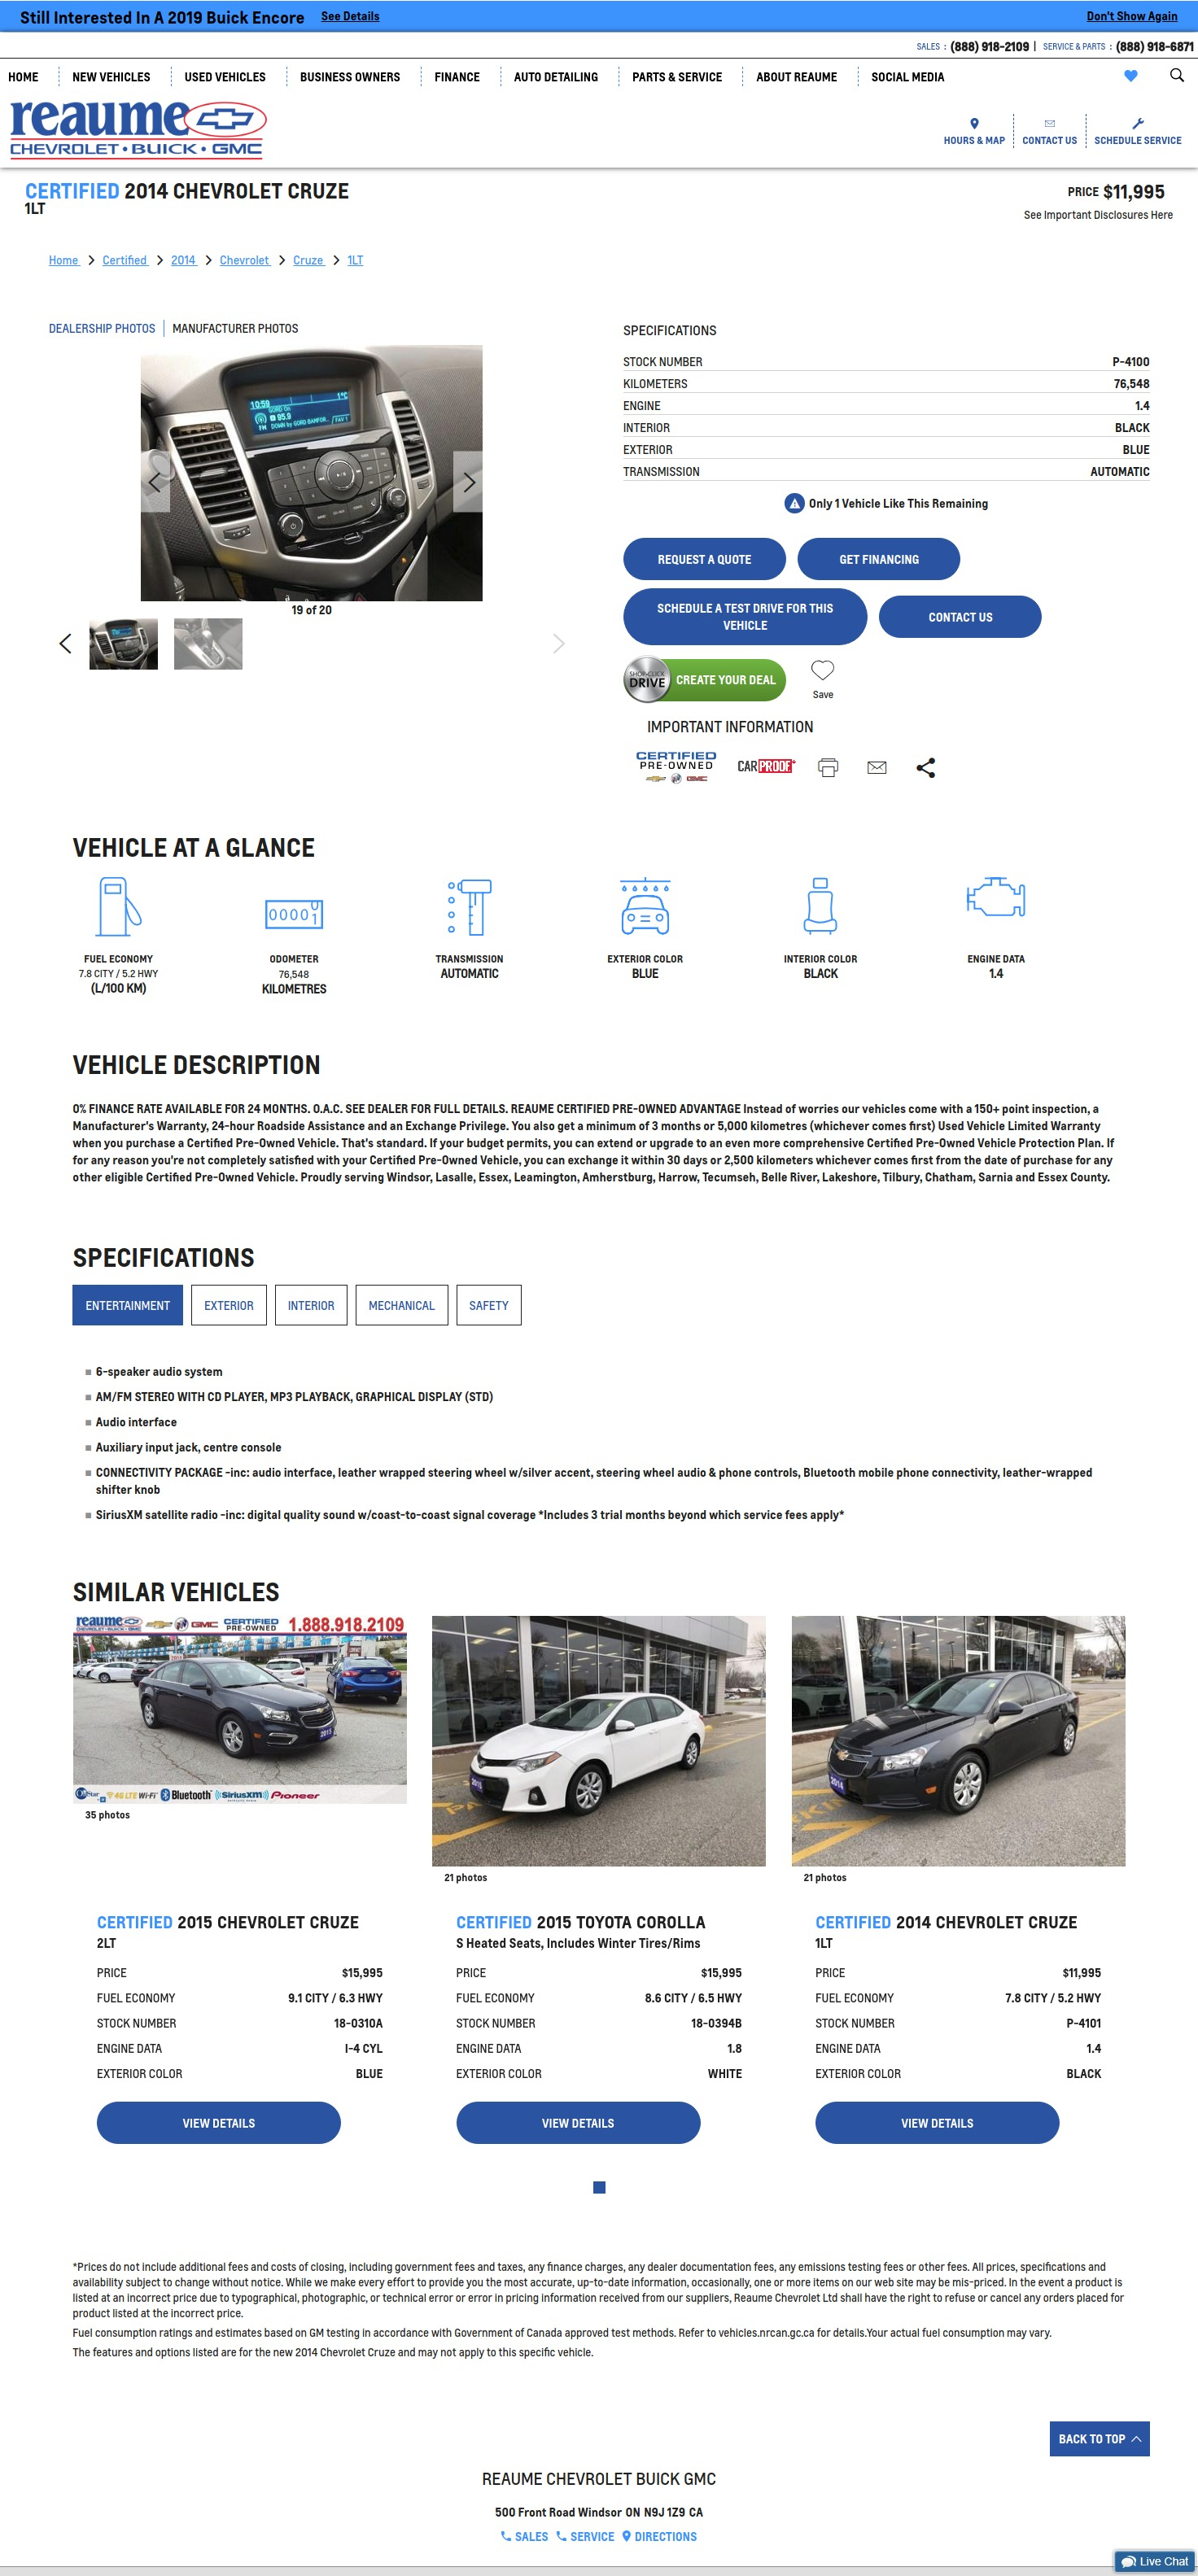car: (552, 632, 567, 655)
